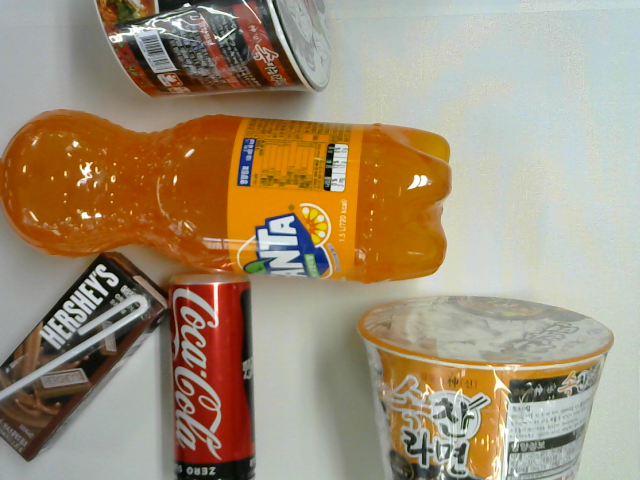Coca_Cola_Zero_Can_250ml: (169, 268, 255, 480)
HeJangsock: (94, 1, 335, 100)
Hejangchan: (356, 291, 617, 480)
Hush_Choco_Drink: (1, 247, 169, 466)
Hwanta_Orange_1.5L: (1, 107, 453, 287)
